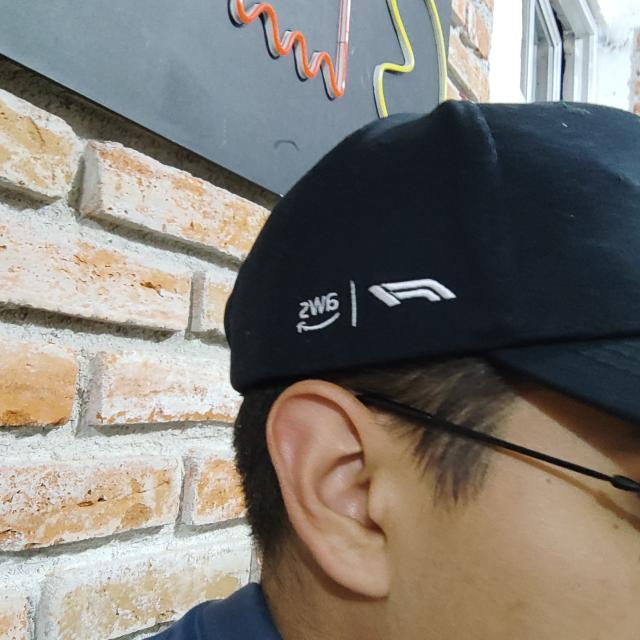ear: (268, 381, 402, 598)
